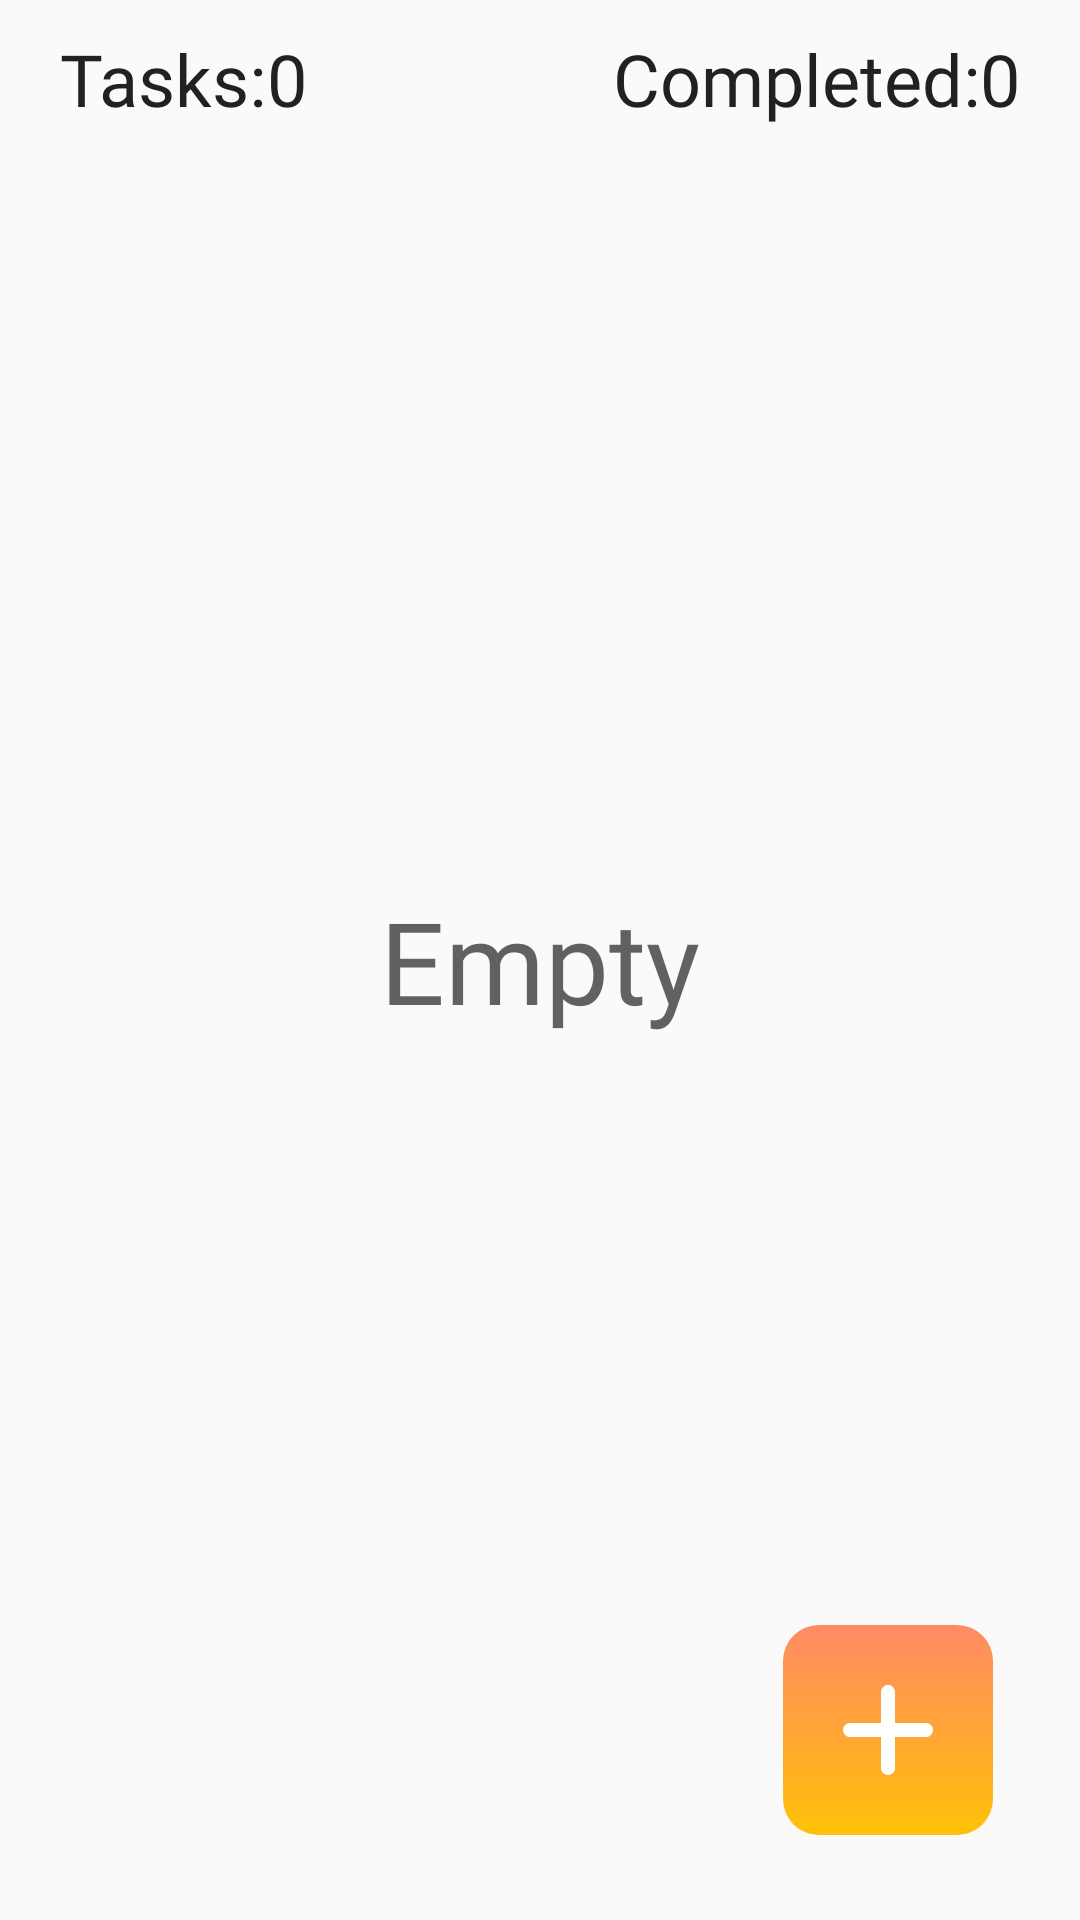

Where icons sit on this 1080px x 1920px app screen, as bbox=[x1, y1, x2, y2]:
add: bbox=[783, 1625, 993, 1835]
